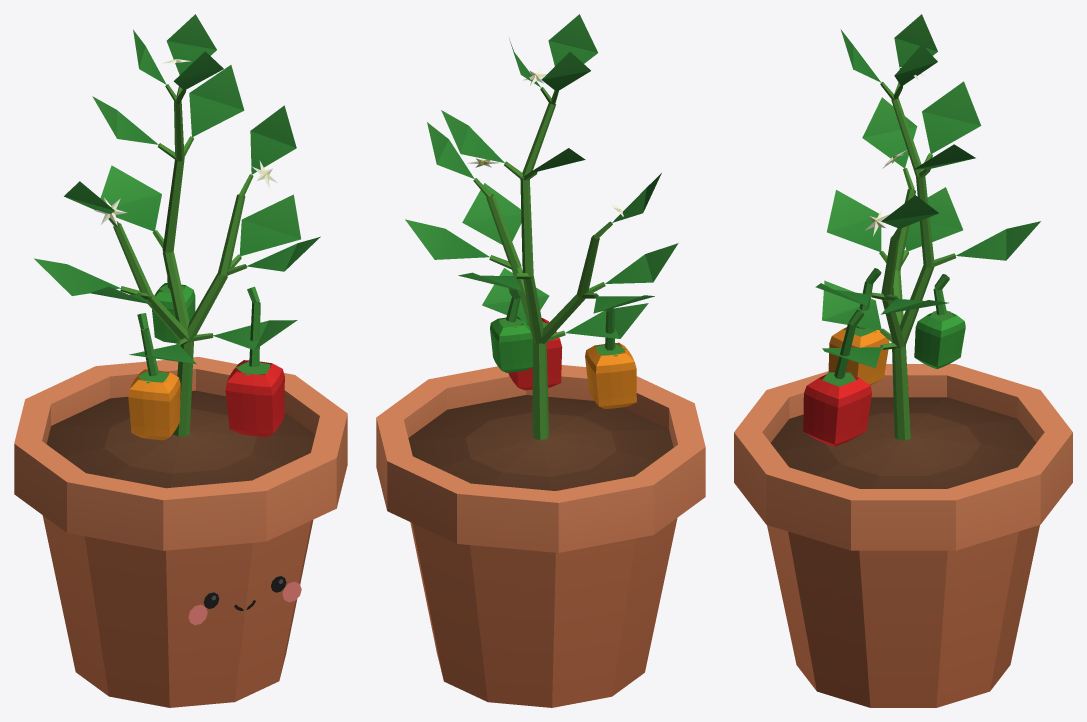
File: cute_pepper_stage3.glb
The picture shows the model from 3 angles, left to right: view 1: azimuth 30°, elevation 25°; view 2: azimuth 150°, elevation 25°; view 3: azimuth 270°, elevation 25°; orthographic projection.
Parts seen in each view (by area): view 1: PepperPlant; view 2: PepperPlant; view 3: PepperPlant.
Boxes of the visible parts, left/top/right/bottom form: PepperPlant: left=14, top=14, right=347, bottom=707; PepperPlant: left=376, top=14, right=705, bottom=707; PepperPlant: left=734, top=14, right=1072, bottom=707.
Bounding box in the file's own units: 0.3766 × 0.8154 × 0.396.
